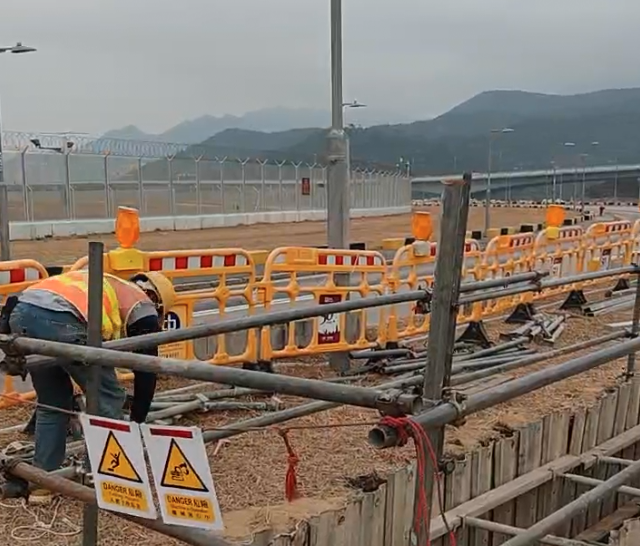Hard Hat: (130, 269, 177, 316)
Person: (13, 266, 175, 505)
Vest: (24, 267, 150, 339)
